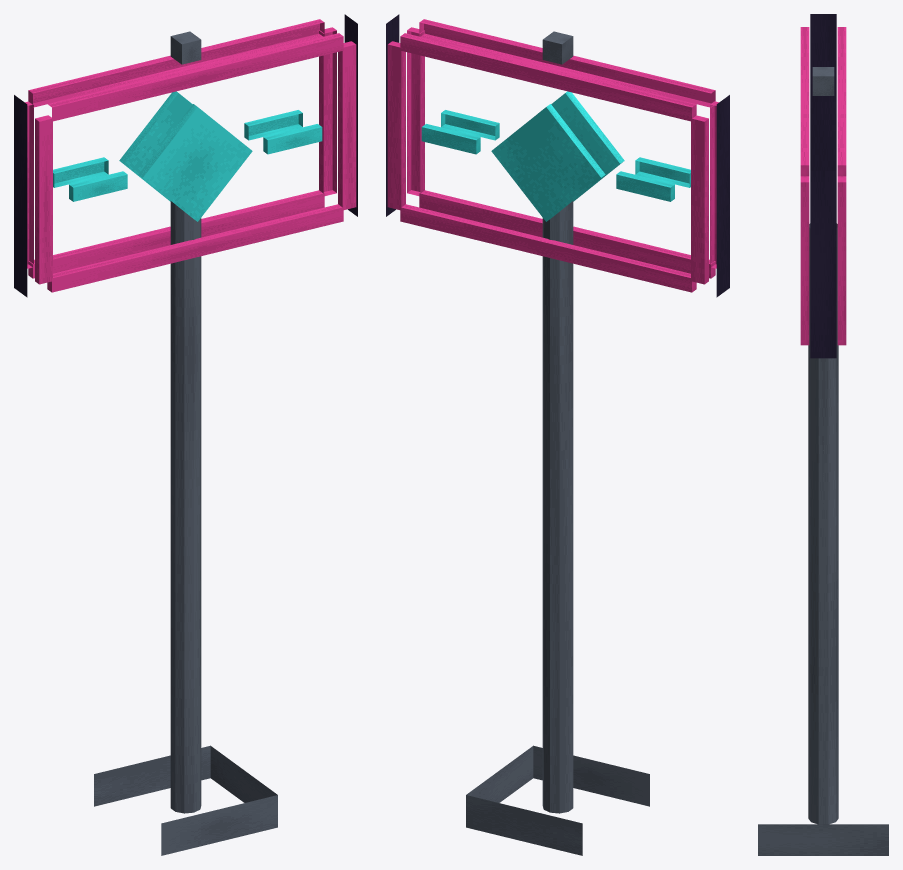
The model's file is prop_neon_sign.glb.
The picture shows the model from 3 angles, left to right: view 1: azimuth 30°, elevation 25°; view 2: azimuth 150°, elevation 25°; view 3: azimuth 270°, elevation 25°; orthographic projection. The views are drawn at different scales.
Parts seen in each view (by area): view 1: prop_neon_sign; view 2: prop_neon_sign; view 3: prop_neon_sign.
Part boxes in pixels (x1,y1,x2,y2): prop_neon_sign: (14,14,357,855); prop_neon_sign: (386,14,729,855); prop_neon_sign: (758,14,888,855).
Bounding box in the file's own units: 1.7 × 3.83 × 0.6.
1 material, 1 textured.
